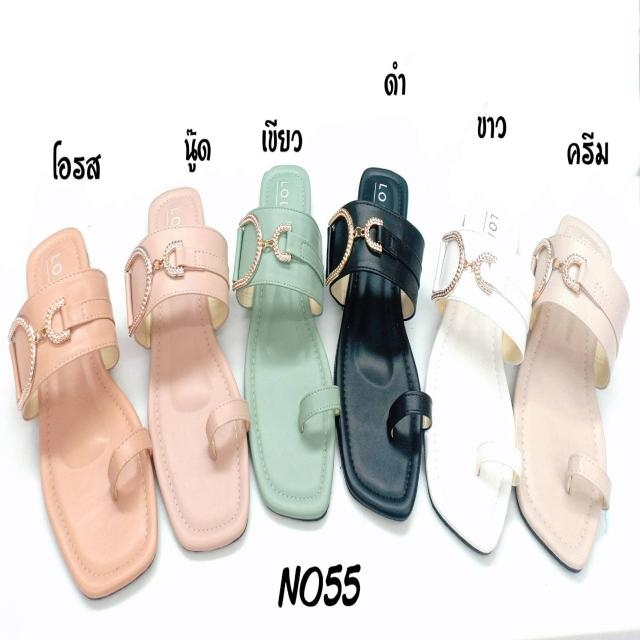black: (335, 171, 423, 521)
cream: (510, 216, 625, 564)
green: (244, 166, 334, 518)
nood: (148, 182, 250, 547)
orot: (21, 223, 158, 594)
white: (421, 191, 511, 551)
